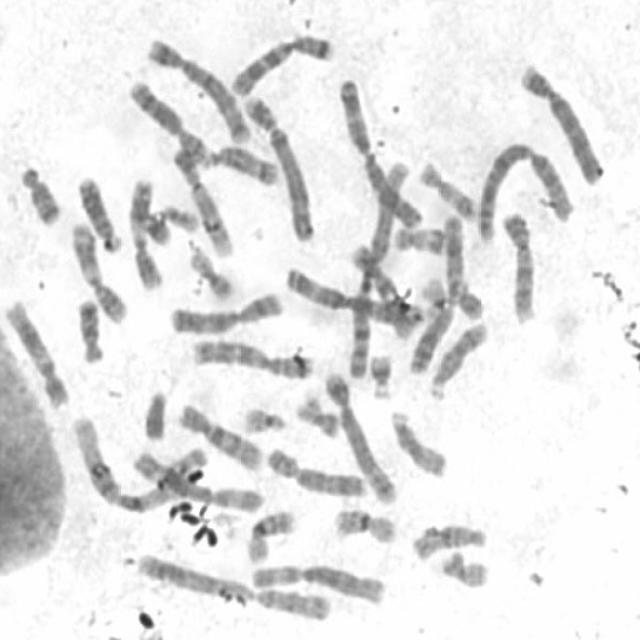A1: (345, 152, 414, 382), (67, 408, 208, 516)
A2: (130, 548, 333, 622), (472, 135, 578, 245)
A3: (331, 70, 426, 232), (279, 260, 425, 332)
B4: (514, 54, 608, 187), (240, 87, 318, 244)
B5: (142, 31, 253, 145), (322, 363, 401, 506)
C10: (348, 235, 424, 342), (173, 396, 266, 474)
C11: (67, 215, 132, 325), (124, 171, 164, 292)
C12: (0, 292, 72, 410), (438, 205, 486, 322)
C6: (129, 443, 267, 513), (248, 558, 388, 606)
C7: (225, 26, 337, 98), (187, 332, 317, 382)
C8: (125, 73, 213, 164), (264, 440, 372, 500)
C9: (168, 143, 235, 258), (498, 204, 540, 326)
D13: (72, 166, 125, 254), (404, 296, 456, 376)
D14: (422, 315, 490, 403), (200, 138, 281, 187)
D15: (386, 402, 451, 479), (406, 517, 489, 562)
E16: (243, 504, 300, 566), (329, 501, 399, 545)
E17: (415, 155, 480, 223), (389, 219, 453, 259)
E18: (14, 158, 64, 228), (72, 292, 107, 366)
F19: (185, 247, 228, 299), (418, 271, 451, 322)
F20: (292, 389, 344, 439), (437, 544, 492, 590)
G21: (364, 347, 397, 400), (139, 208, 172, 247)
G22: (150, 199, 200, 234), (238, 400, 288, 434)
X: (166, 286, 286, 336)
Y: (137, 384, 170, 442)
